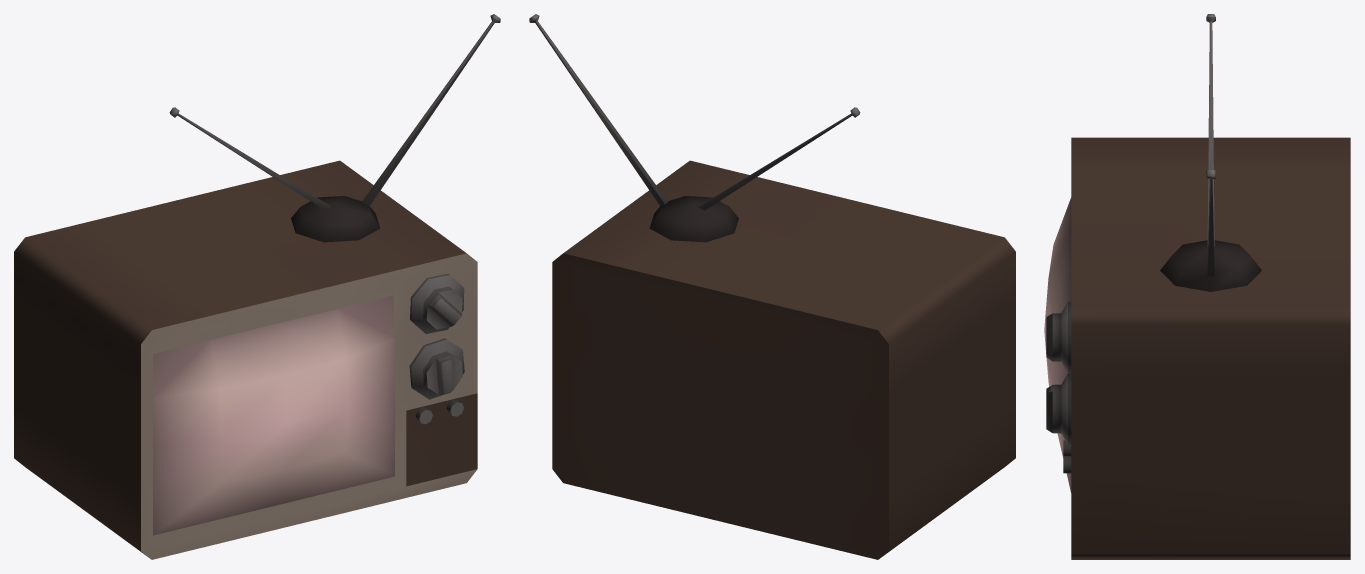
File: human-electronics-old-television_v1.fbx
3 renders of one model, left to right at view 1: azimuth 30°, elevation 25°; view 2: azimuth 150°, elevation 25°; view 3: azimuth 270°, elevation 25°, orthographic. The views are drawn at different scales.
Parts seen in each view (by area): view 1: Old Television; view 2: Old Television; view 3: Old Television.
Boxes of the visible parts, box(x1,y1,x2,y2) form: Old Television: box(14, 14, 500, 559); Old Television: box(529, 14, 1015, 559); Old Television: box(1044, 14, 1350, 559).
Size of the model in its own units: 0.6 by 0.5426 by 0.3428.
